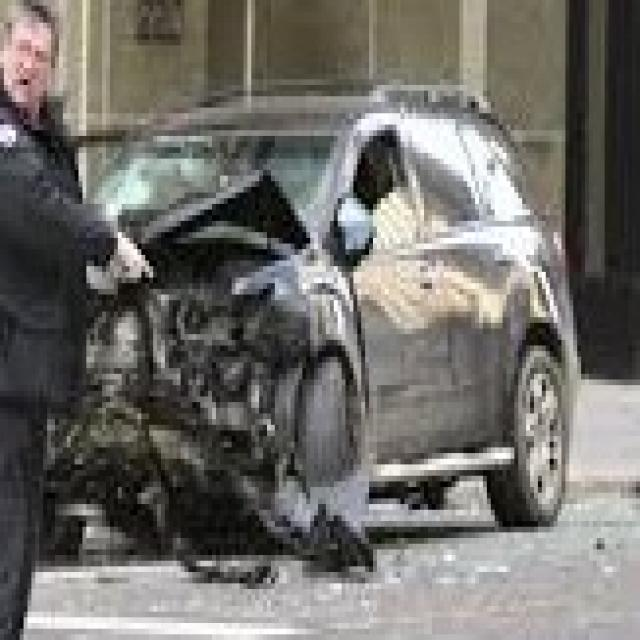severe: (53, 168, 429, 564)
